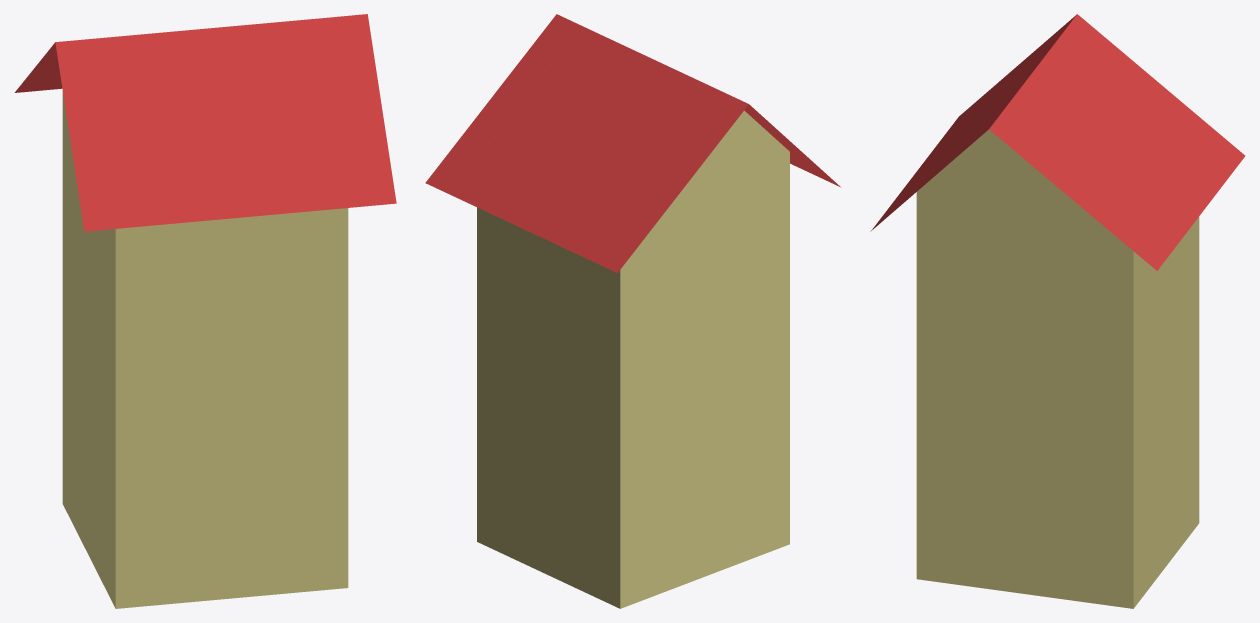
3 views of the same model, side by side, from view 1: azimuth 30°, elevation 25°; view 2: azimuth 150°, elevation 25°; view 3: azimuth 270°, elevation 25° (orthographic). The views are drawn at different scales.
Size of the model in its own units: 4.99 by 5.11 by 7.16.
